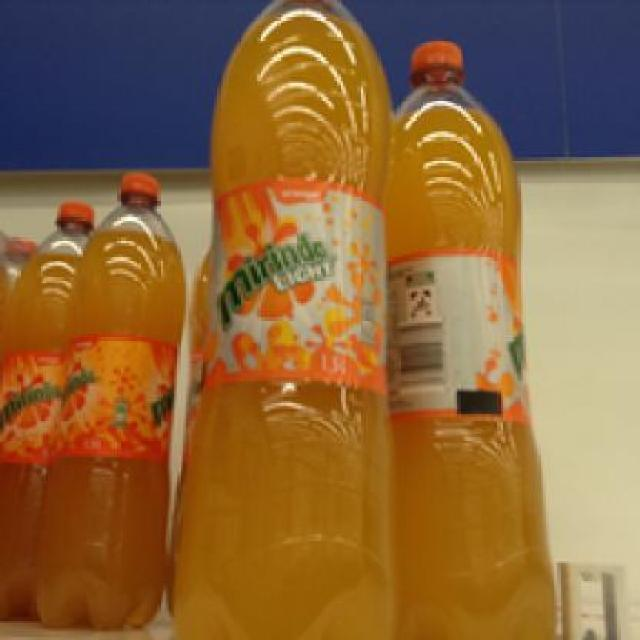Soda: (173, 0, 386, 635), (386, 37, 546, 637), (26, 171, 183, 624)
